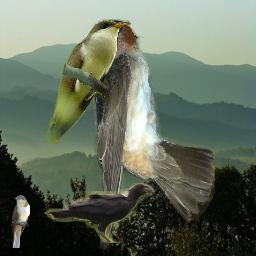Crow: (47, 183, 155, 243)
Cuckoo: (45, 19, 131, 145), (11, 195, 30, 248)
Swallow: (84, 19, 215, 253)
